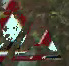Speed Breaker ahead: (0, 1, 62, 65)
